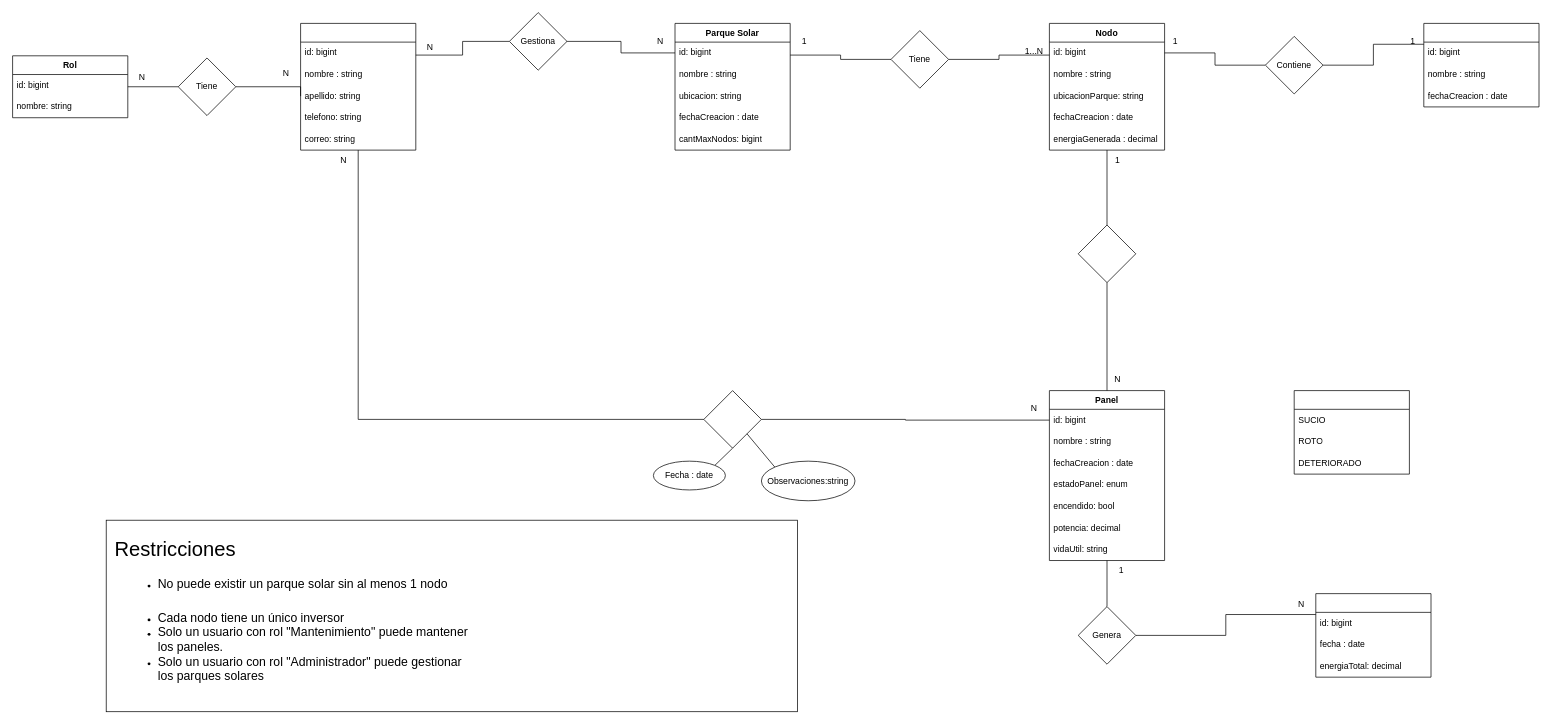
The diagram is 1552 pixels wide and 726 high, and some of its shapes have lost their labels. The box of each missing label's shape, as (x1, y1, x2, y2) in pixels:
Dispone: (1077, 224, 1136, 283)
estadoPanel: (1293, 390, 1409, 474)
Historico: (1315, 593, 1431, 677)
Inversor: (1423, 23, 1539, 107)
Mantiene: (703, 390, 761, 448)
Usuario: (300, 23, 416, 150)
